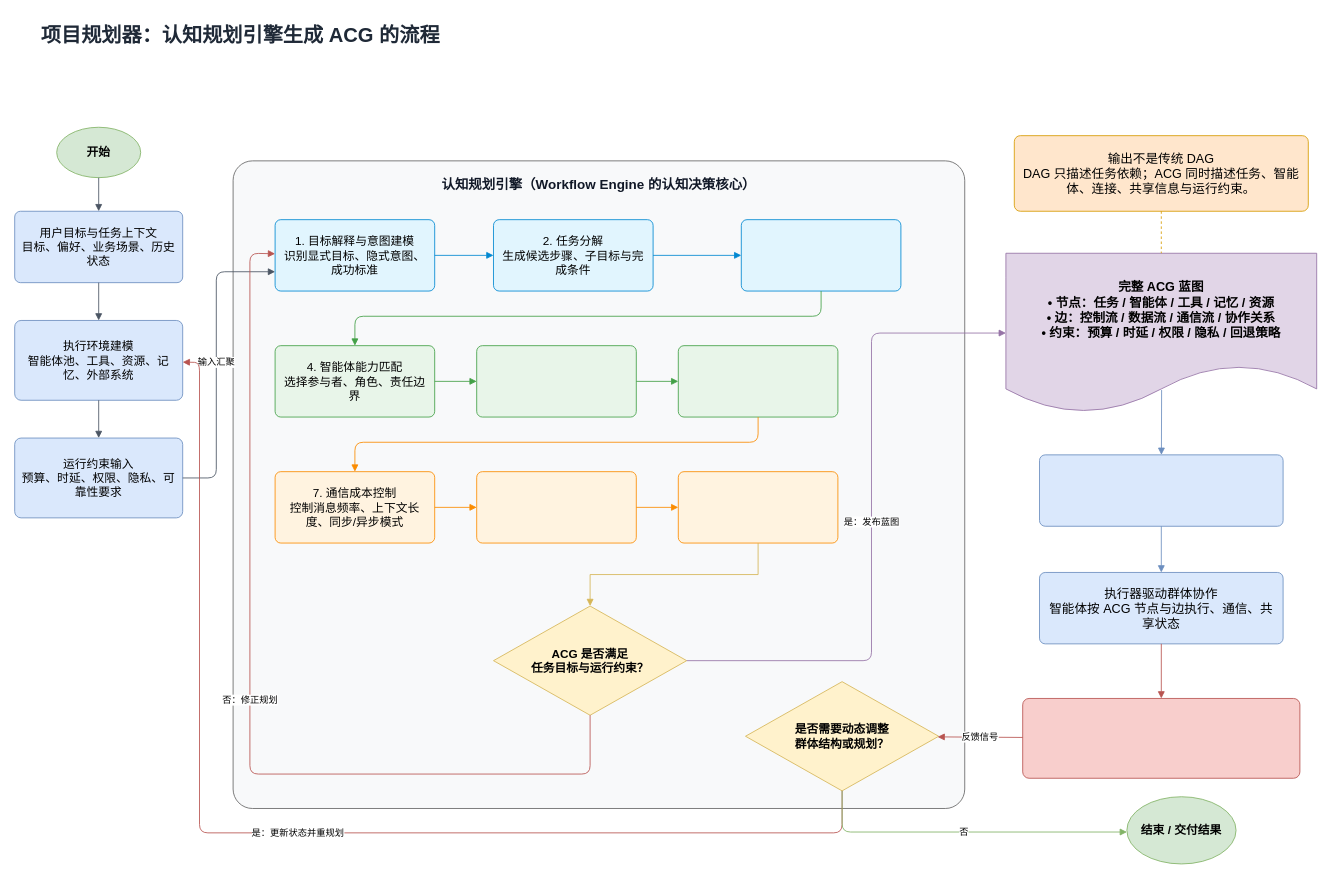
Image size: 1331x879. Some labels were removed from this diagram. Each missing label, with the centre of its shape:
"3. 依赖与状态推理 确定前置条件、共享状态、冲突关系" goes at (820,255).
"5. 协作拓扑构建 建立智能体连接、监督关系与协商路径" goes at (556,381).
"6. 信息共享策略 决定共享内容、粒度、时机与访问范围" goes at (757,381).
"8. 运行约束编排 预算、时延、权限、隐私、降级与回退" goes at (556,507).
"9. ACG 一致性校验 检查可执行性、资源竞争、信息闭环与风险" goes at (757,507).
"调度器接收蓝图 生成执行队列、并发策略、资源分配方案" goes at (1161,490).
"运行监控与反馈 进度、失败、成本漂移、上下文变化、智能体状态" goes at (1161,738).
